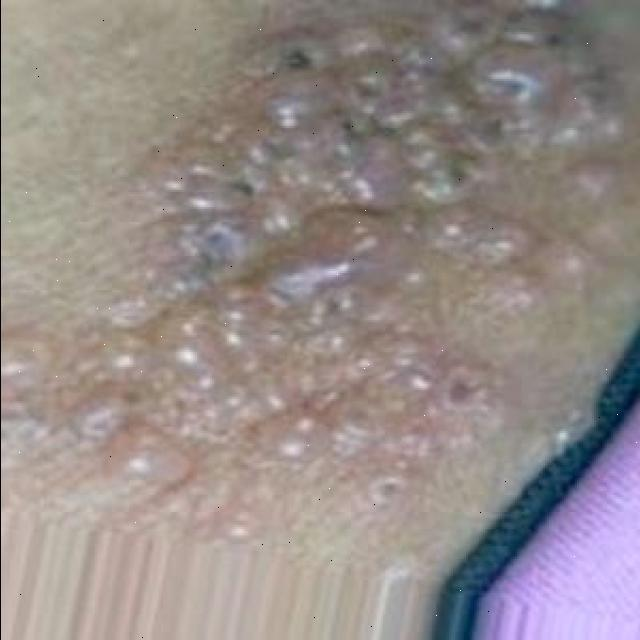Shingles: (2, 0, 624, 535)
